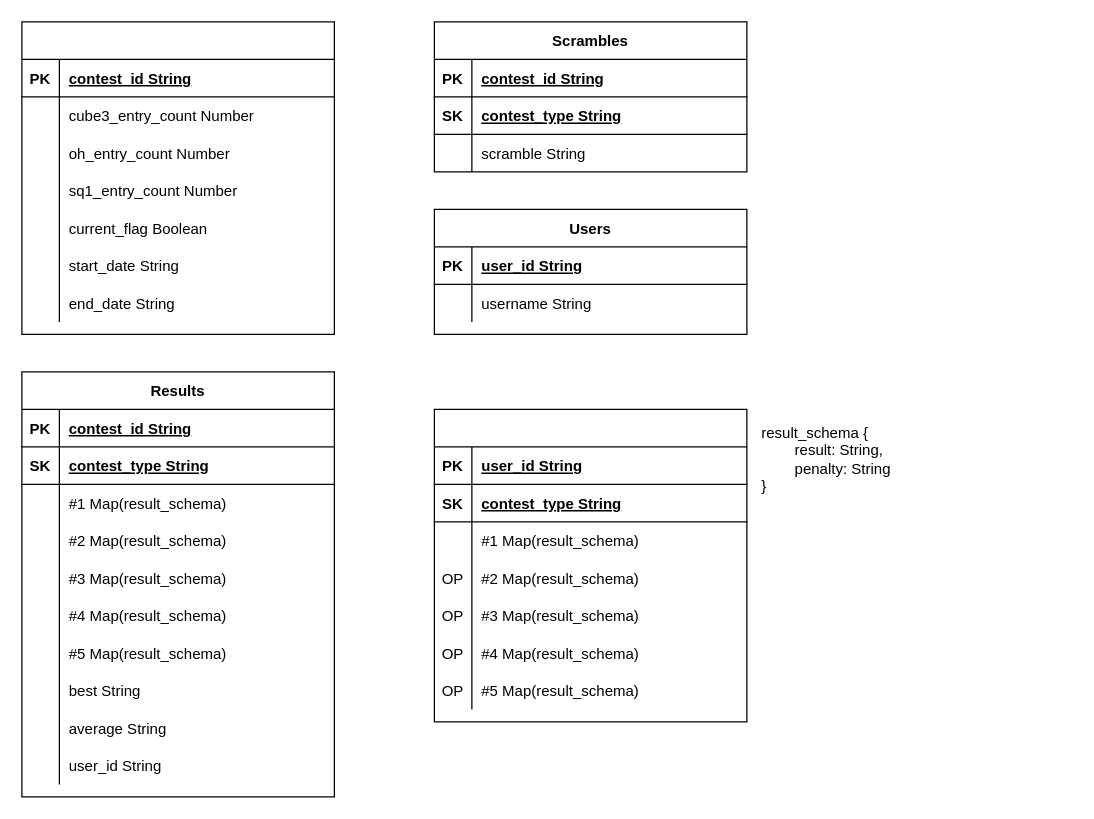
The diagram is 1094 pixels wide and 819 high, and some of its shapes have lost their labels. Each missing label, with the box of its shape:
Contests: (21, 21, 334, 334)
PreResults: (433, 408, 747, 722)
